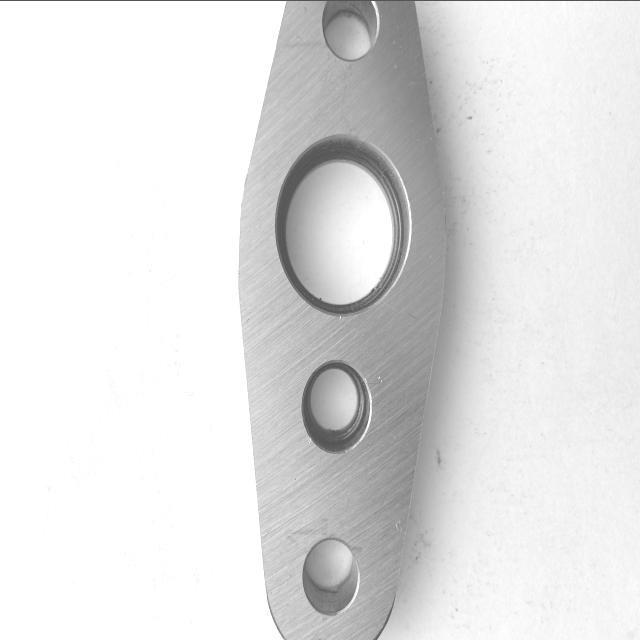chap: (394, 518, 404, 533), (305, 434, 313, 446), (376, 374, 384, 383), (337, 314, 343, 324), (308, 111, 314, 119), (280, 296, 285, 302)
lines: (285, 522, 330, 542), (283, 34, 327, 54), (348, 536, 366, 552)
